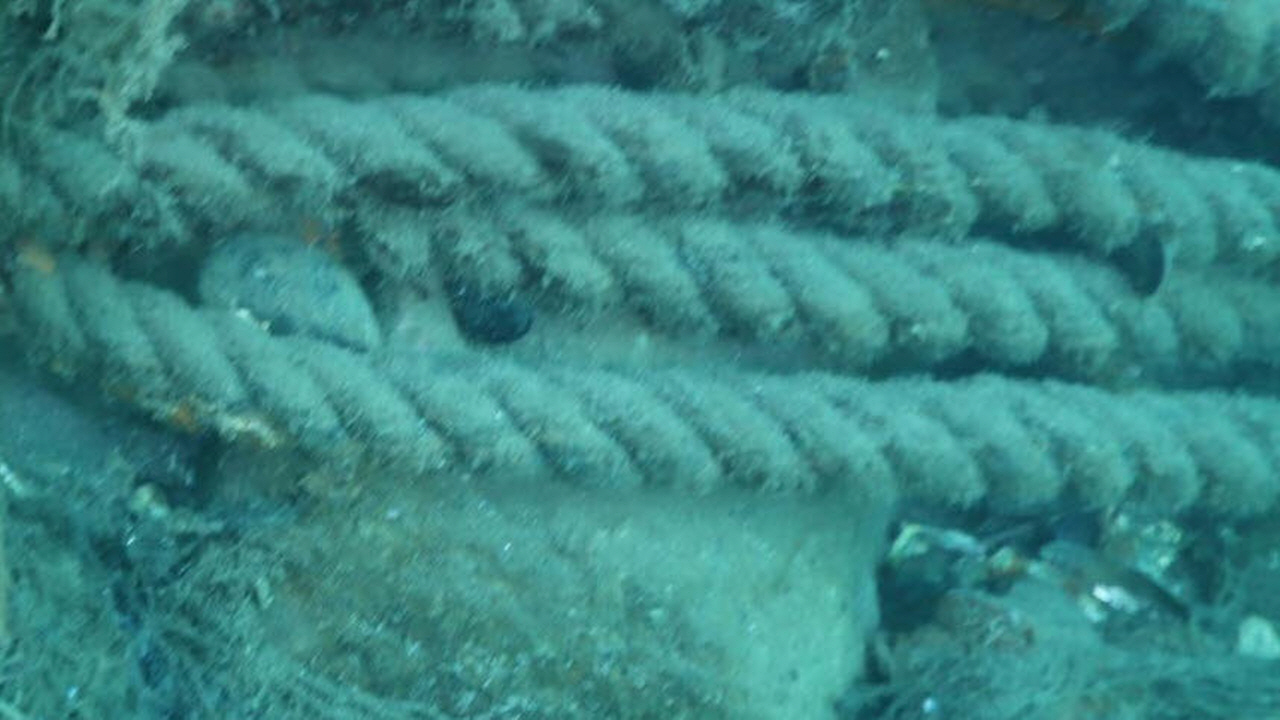bundle of ropes: (0, 79, 1280, 525)
